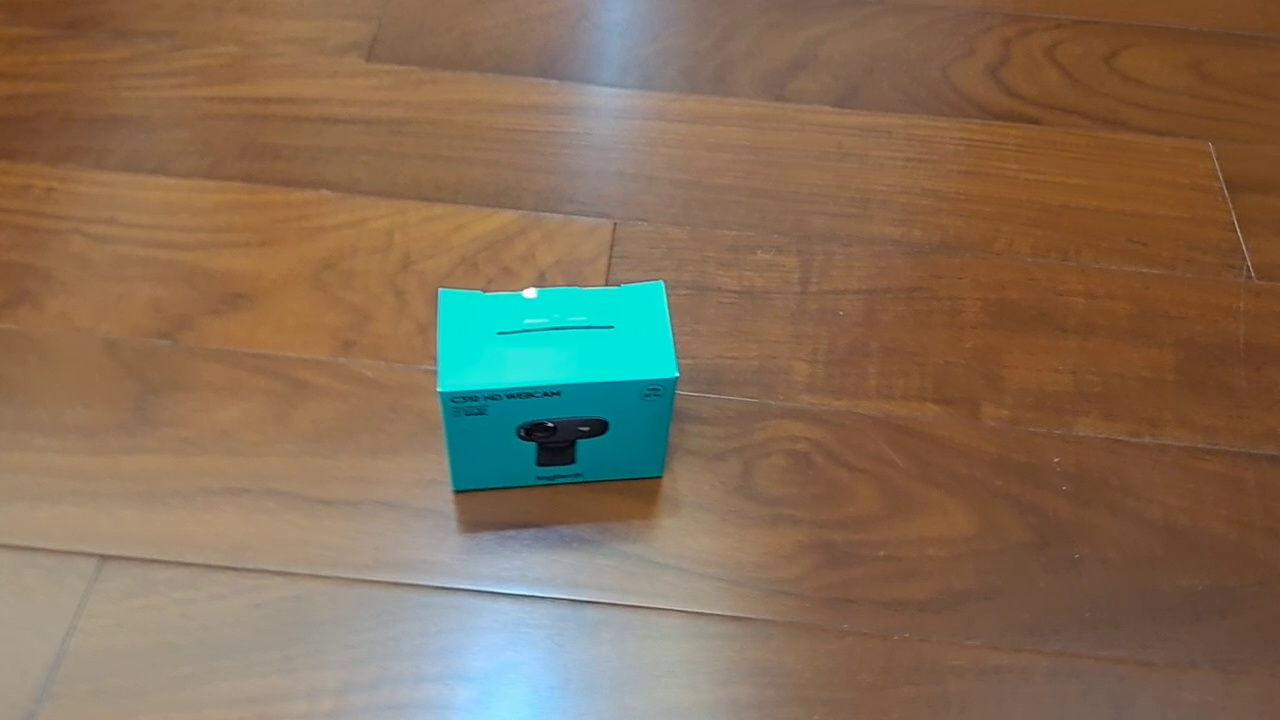webcam: (435, 279, 682, 495)
